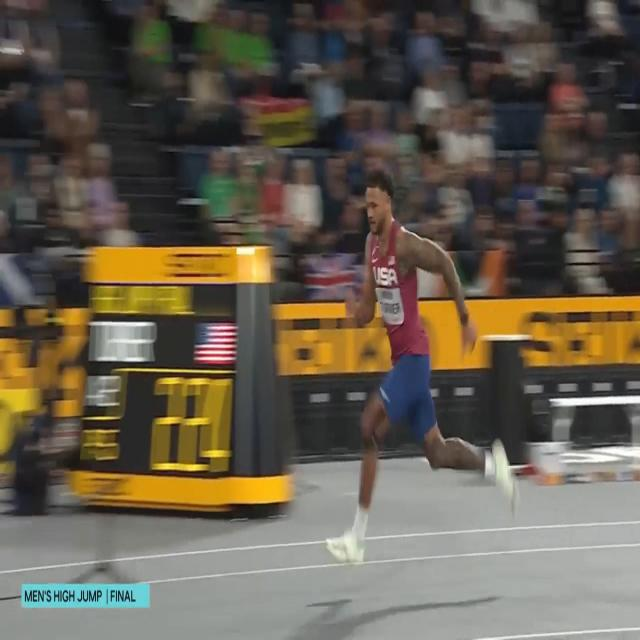run: (324, 166, 520, 568)
